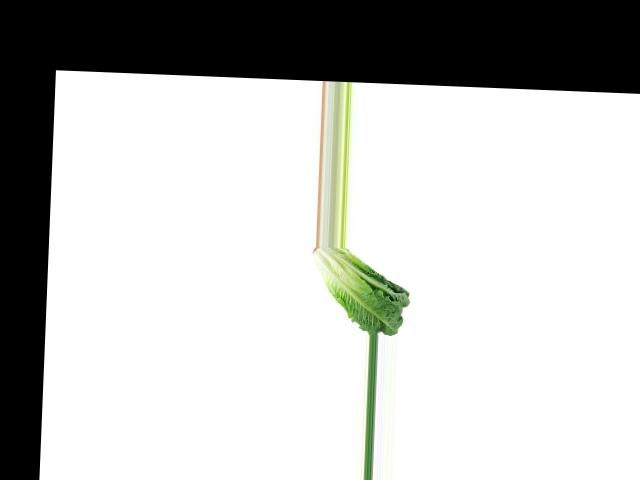lettuce: (308, 246, 413, 335)
